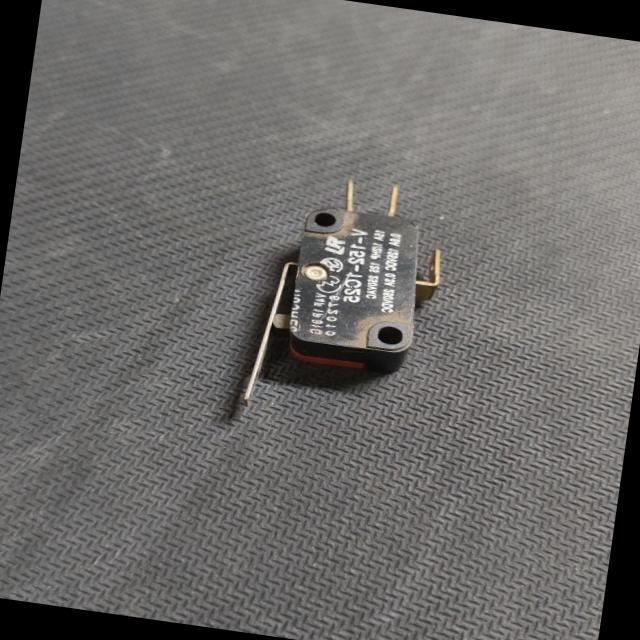switch: (209, 157, 472, 466)
